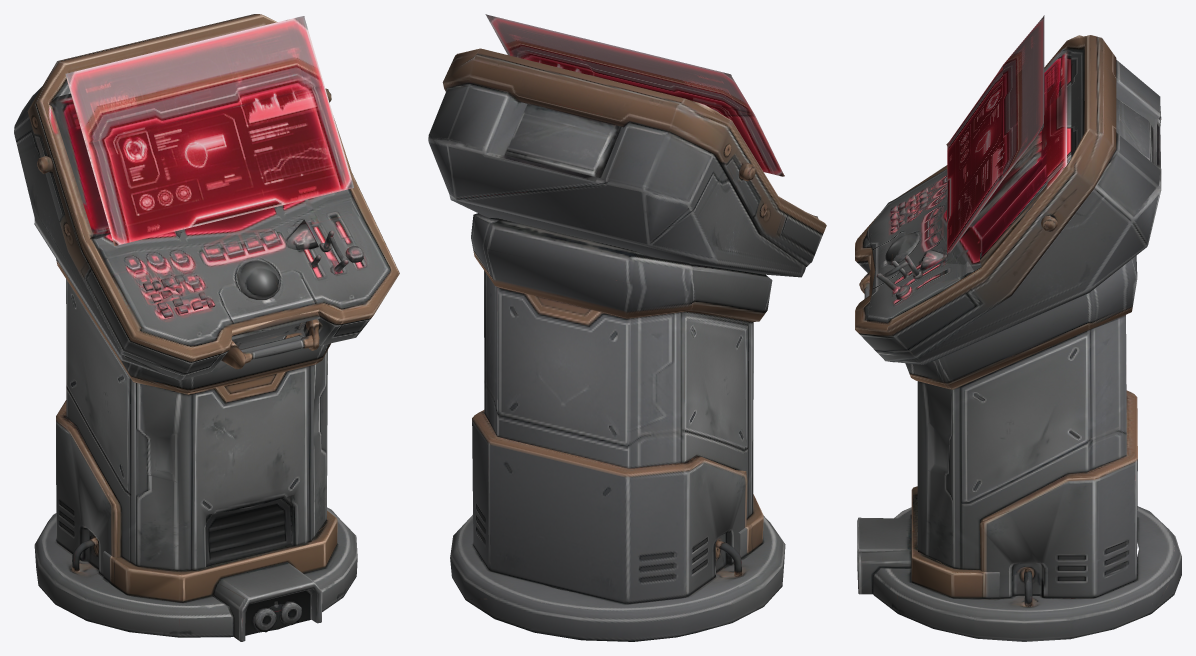
3 views of the same model, side by side, from view 1: azimuth 30°, elevation 25°; view 2: azimuth 150°, elevation 25°; view 3: azimuth 270°, elevation 25° (orthographic). The views are drawn at different scales.
Parts seen in each view (by area): view 1: Mesh_0; view 2: Mesh_0; view 3: Mesh_0.
Boxes of the visible parts, <box> form: Mesh_0: <box>14,14,399,641</box>; Mesh_0: <box>428,14,826,641</box>; Mesh_0: <box>855,15,1181,641</box>.
Bounding box in the file's own units: 58.79 × 100 × 58.79.
Materials: 1 (1 with a texture image).
